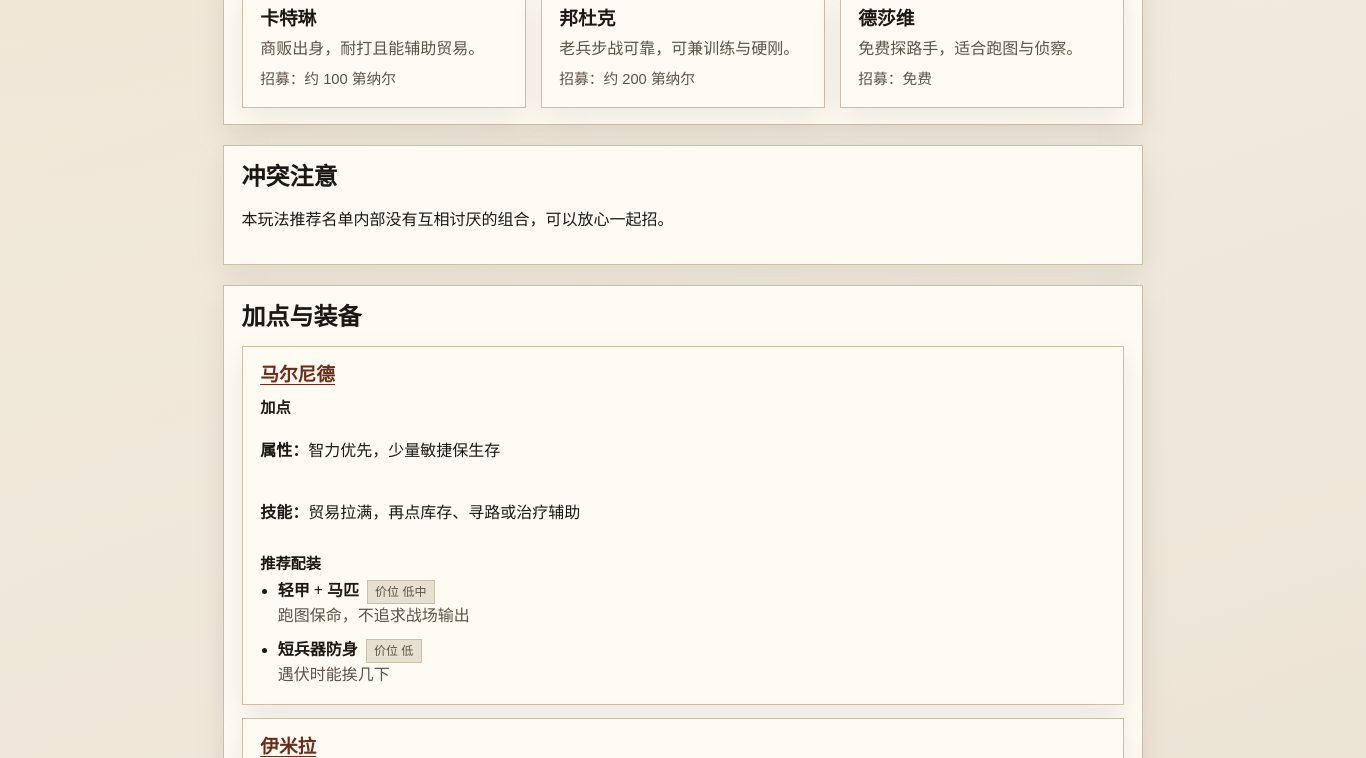
Test: CompanionPage › opens companion detail from trade blueprint with consistent advice
(page scrolled)
Click the link "马尔尼德": click(298, 375) [260,364,335,385]
(page scrolled)
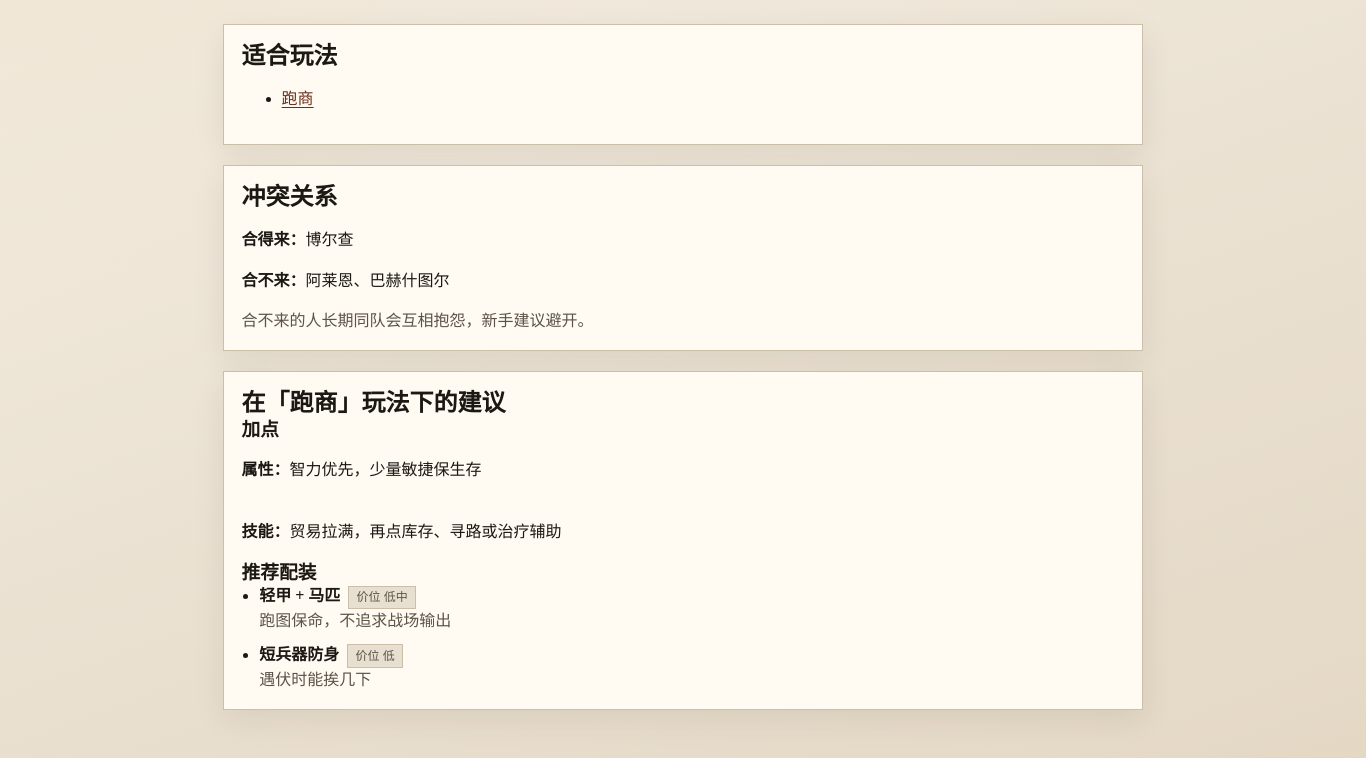
Expected: the text "合不来：" is shown, [242,272,306,288]
Expected: the text "合不来：阿莱恩、巴赫什图尔" is shown, [242,272,450,288]
Expected: the heading "在「跑商」玩法下的建议" is shown, [242,390,506,416]
